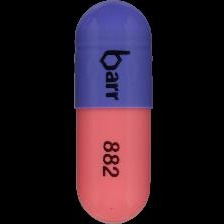0555-0882: (0, 0, 224, 224)
